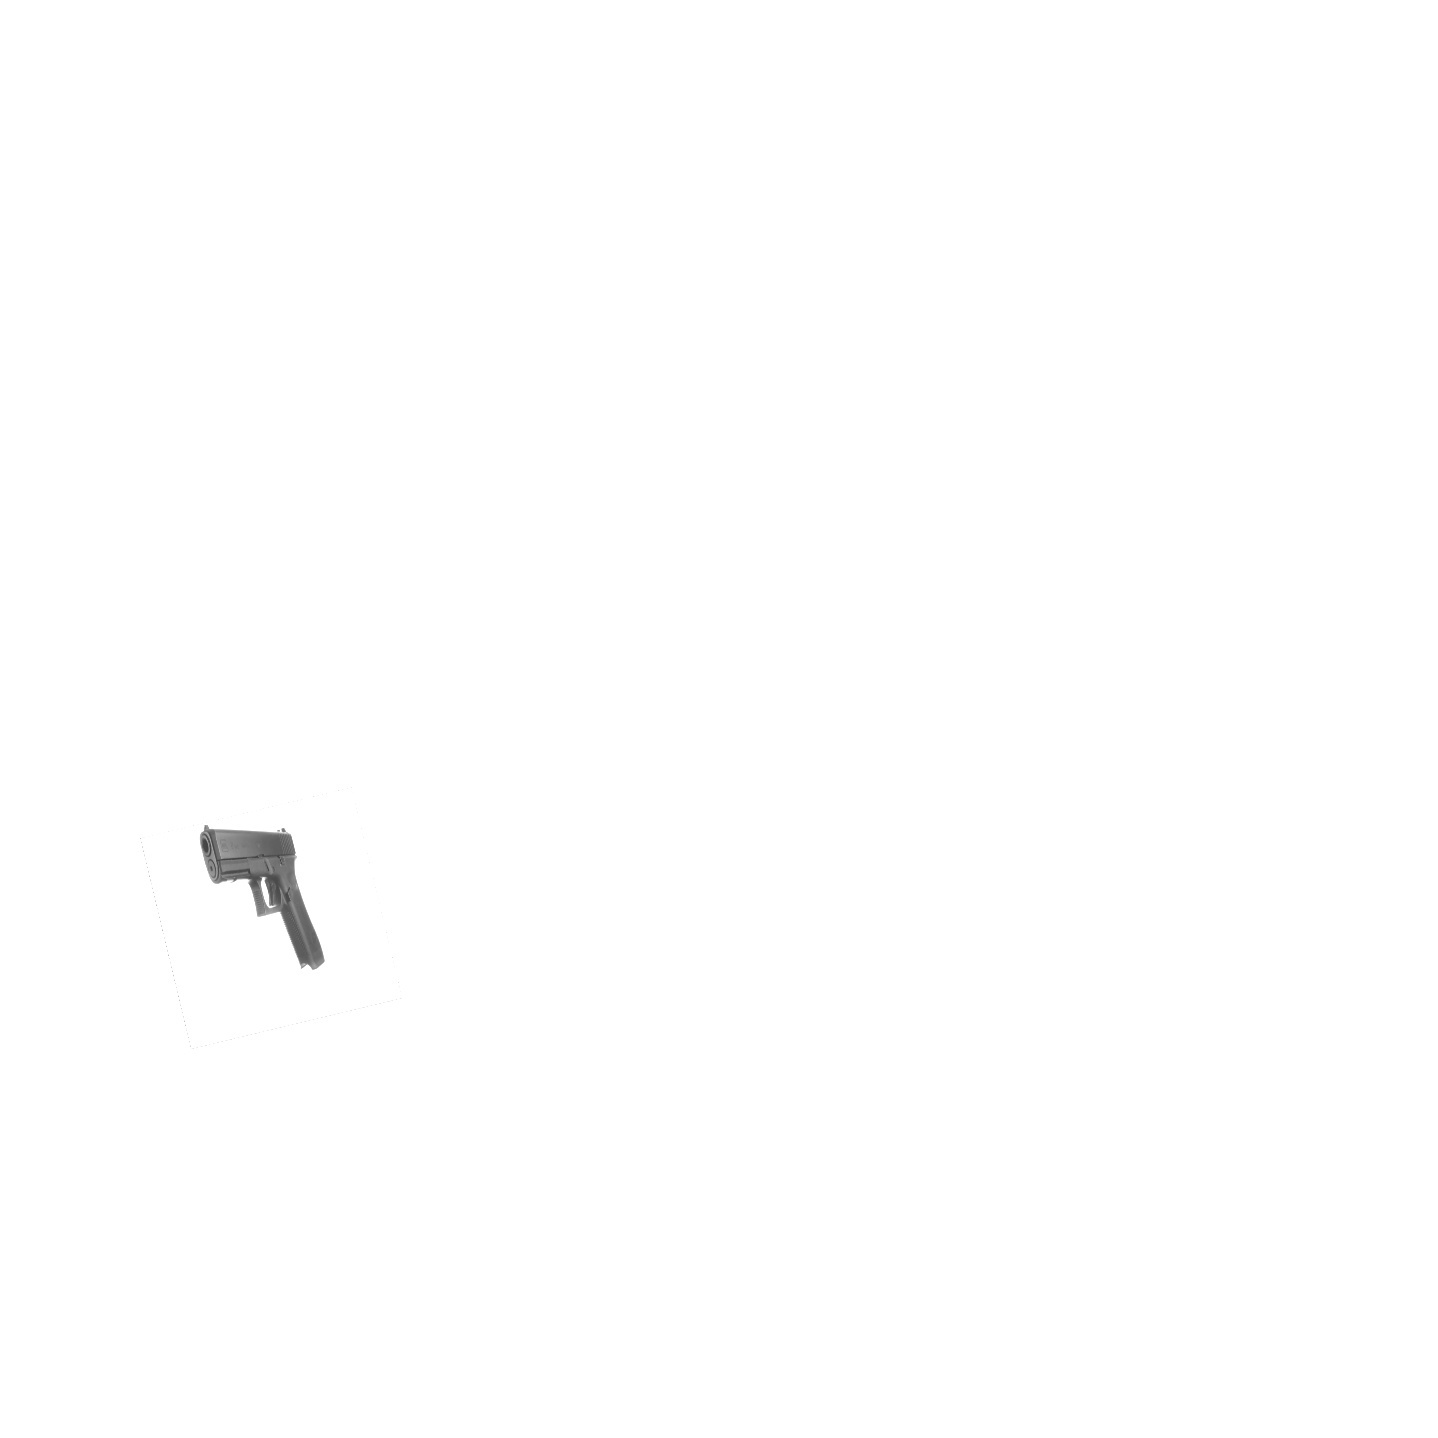gun: (196, 820, 327, 967)
